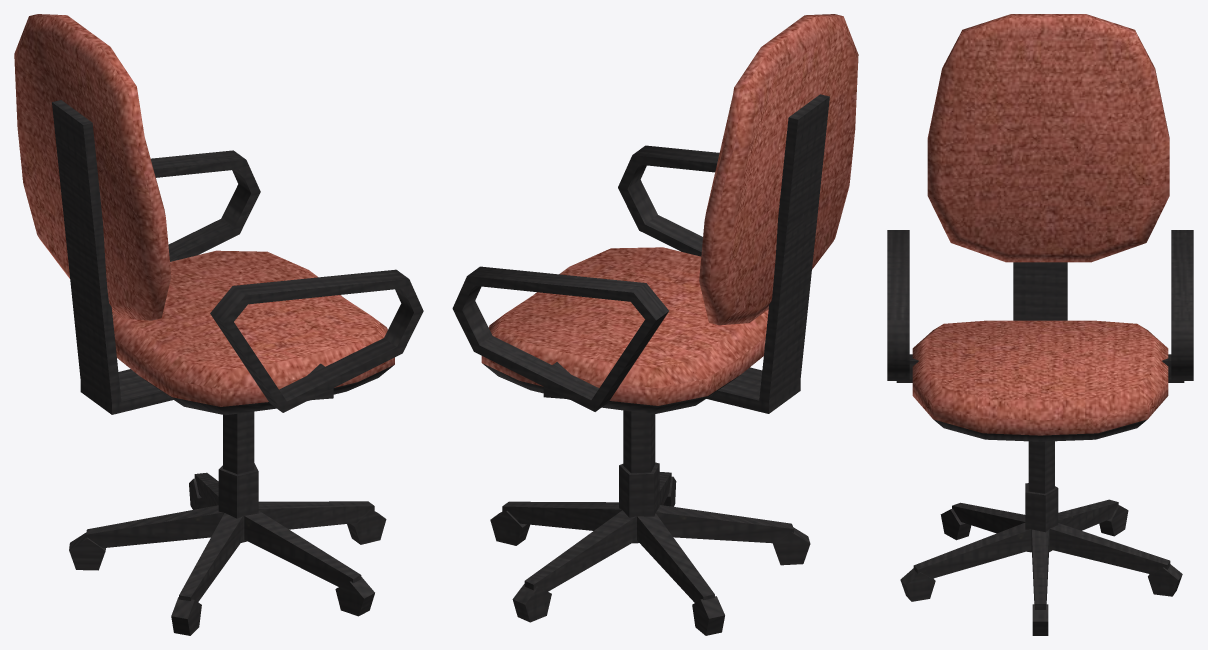
File: Chair_17-col.glb
3 views of the same model, side by side, from view 1: azimuth 30°, elevation 25°; view 2: azimuth 150°, elevation 25°; view 3: azimuth 270°, elevation 25° (orthographic). The views are drawn at different scales.
Visible parts, largest first — view 1: Chair_17-col; view 2: Chair_17-col; view 3: Chair_17-col.
Part boxes in pixels (x1,y1,x2,y2): Chair_17-col: [14, 14, 423, 635]; Chair_17-col: [452, 14, 858, 635]; Chair_17-col: [887, 14, 1193, 635].
Bounding box in the file's own units: 0.6238 × 1.08 × 0.604.
2 materials, 2 textured.
